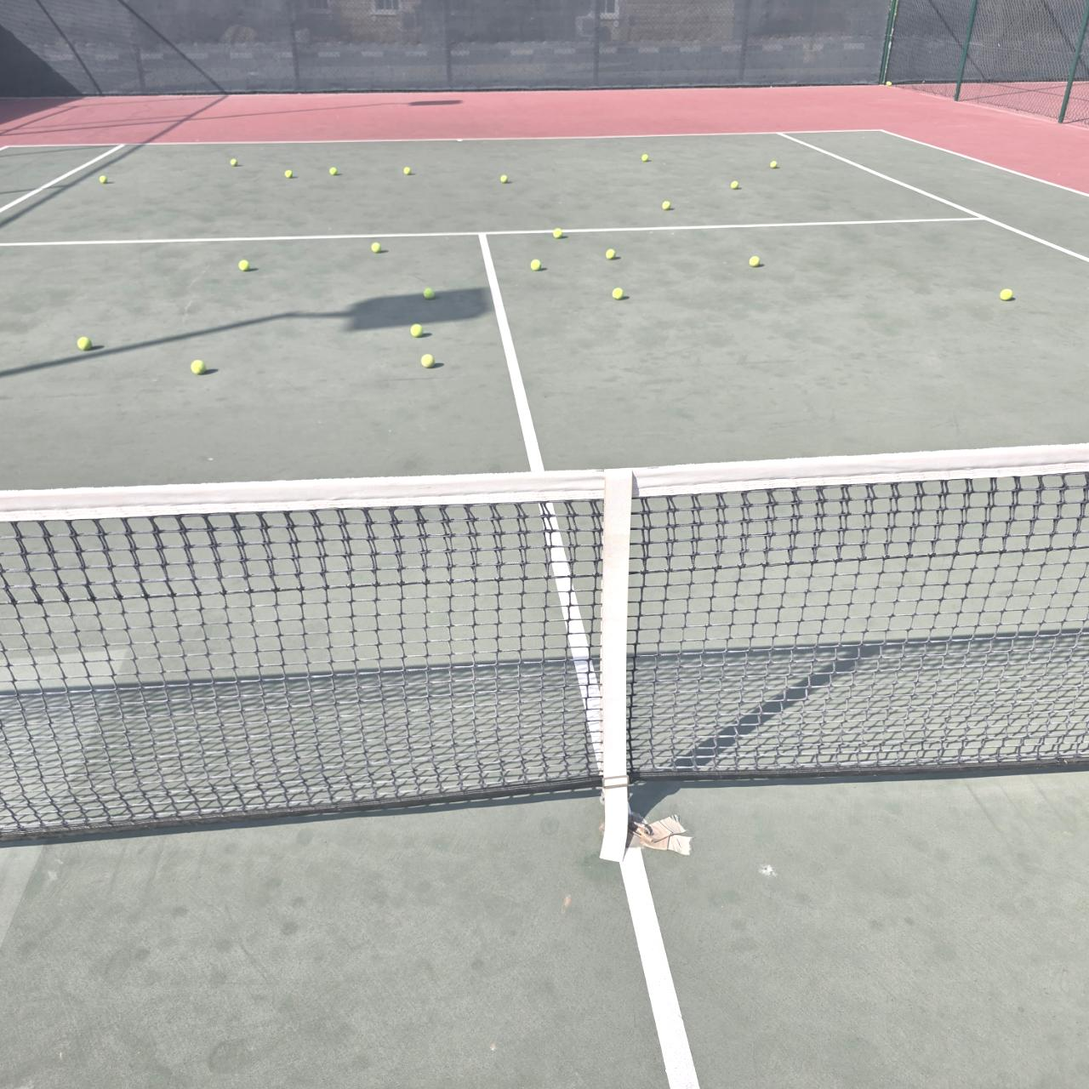tennis-ball: (191, 357, 207, 374), (420, 351, 436, 368), (77, 334, 93, 350), (410, 322, 425, 338), (420, 287, 435, 301), (1000, 287, 1016, 300), (530, 257, 544, 271), (237, 258, 250, 273), (612, 285, 625, 299), (749, 254, 763, 267), (603, 248, 617, 261), (370, 240, 383, 253), (551, 227, 563, 240), (730, 179, 741, 190), (661, 200, 672, 210), (228, 158, 239, 168), (769, 159, 779, 169), (329, 166, 339, 176), (284, 169, 294, 179), (402, 166, 413, 175), (500, 173, 509, 183), (99, 175, 109, 184), (641, 153, 650, 162), (886, 80, 893, 86)
